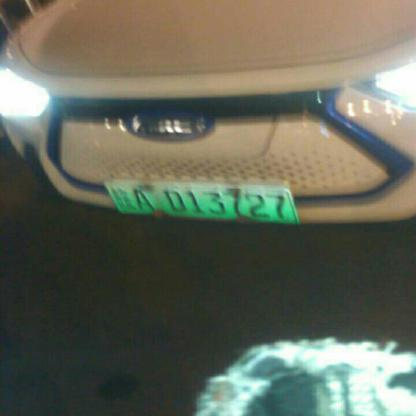lp: (102, 181, 300, 225)
